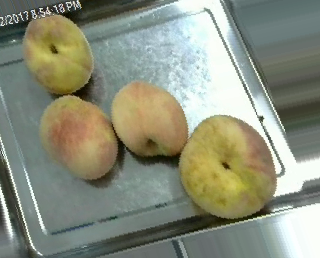Peach: (179, 114, 277, 219), (38, 94, 119, 180), (111, 80, 187, 158), (23, 12, 94, 93)
